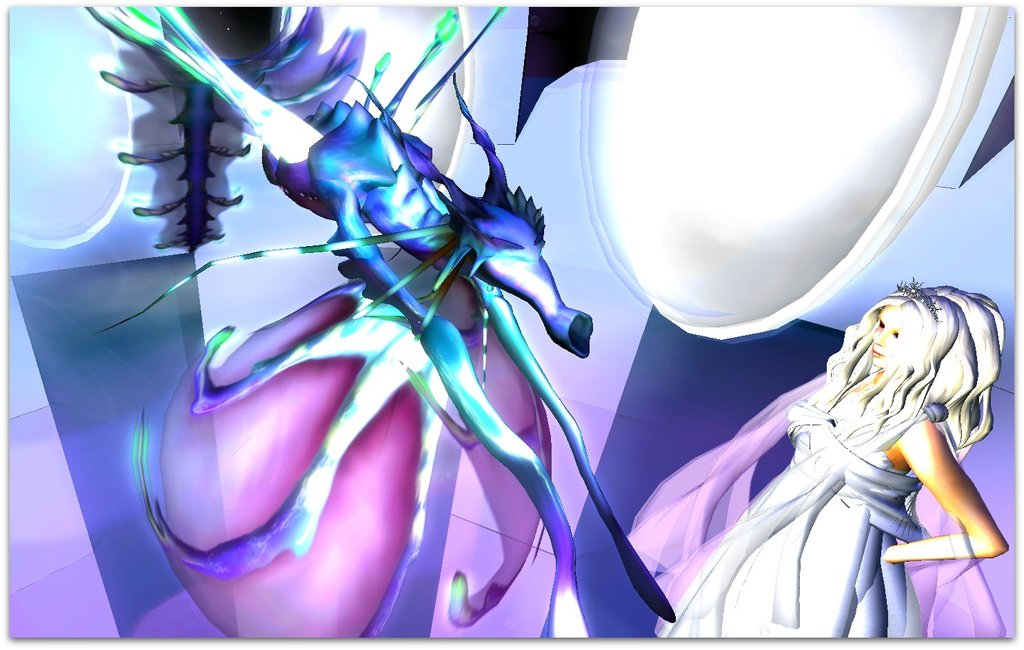face: (848, 297, 925, 386)
